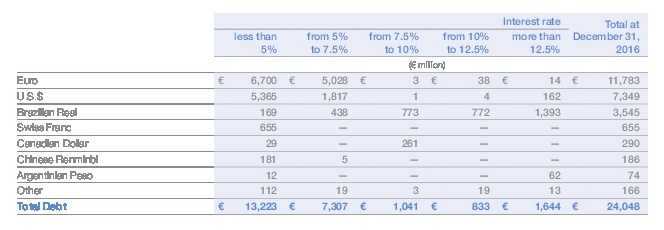table: (0, 0, 664, 230)
